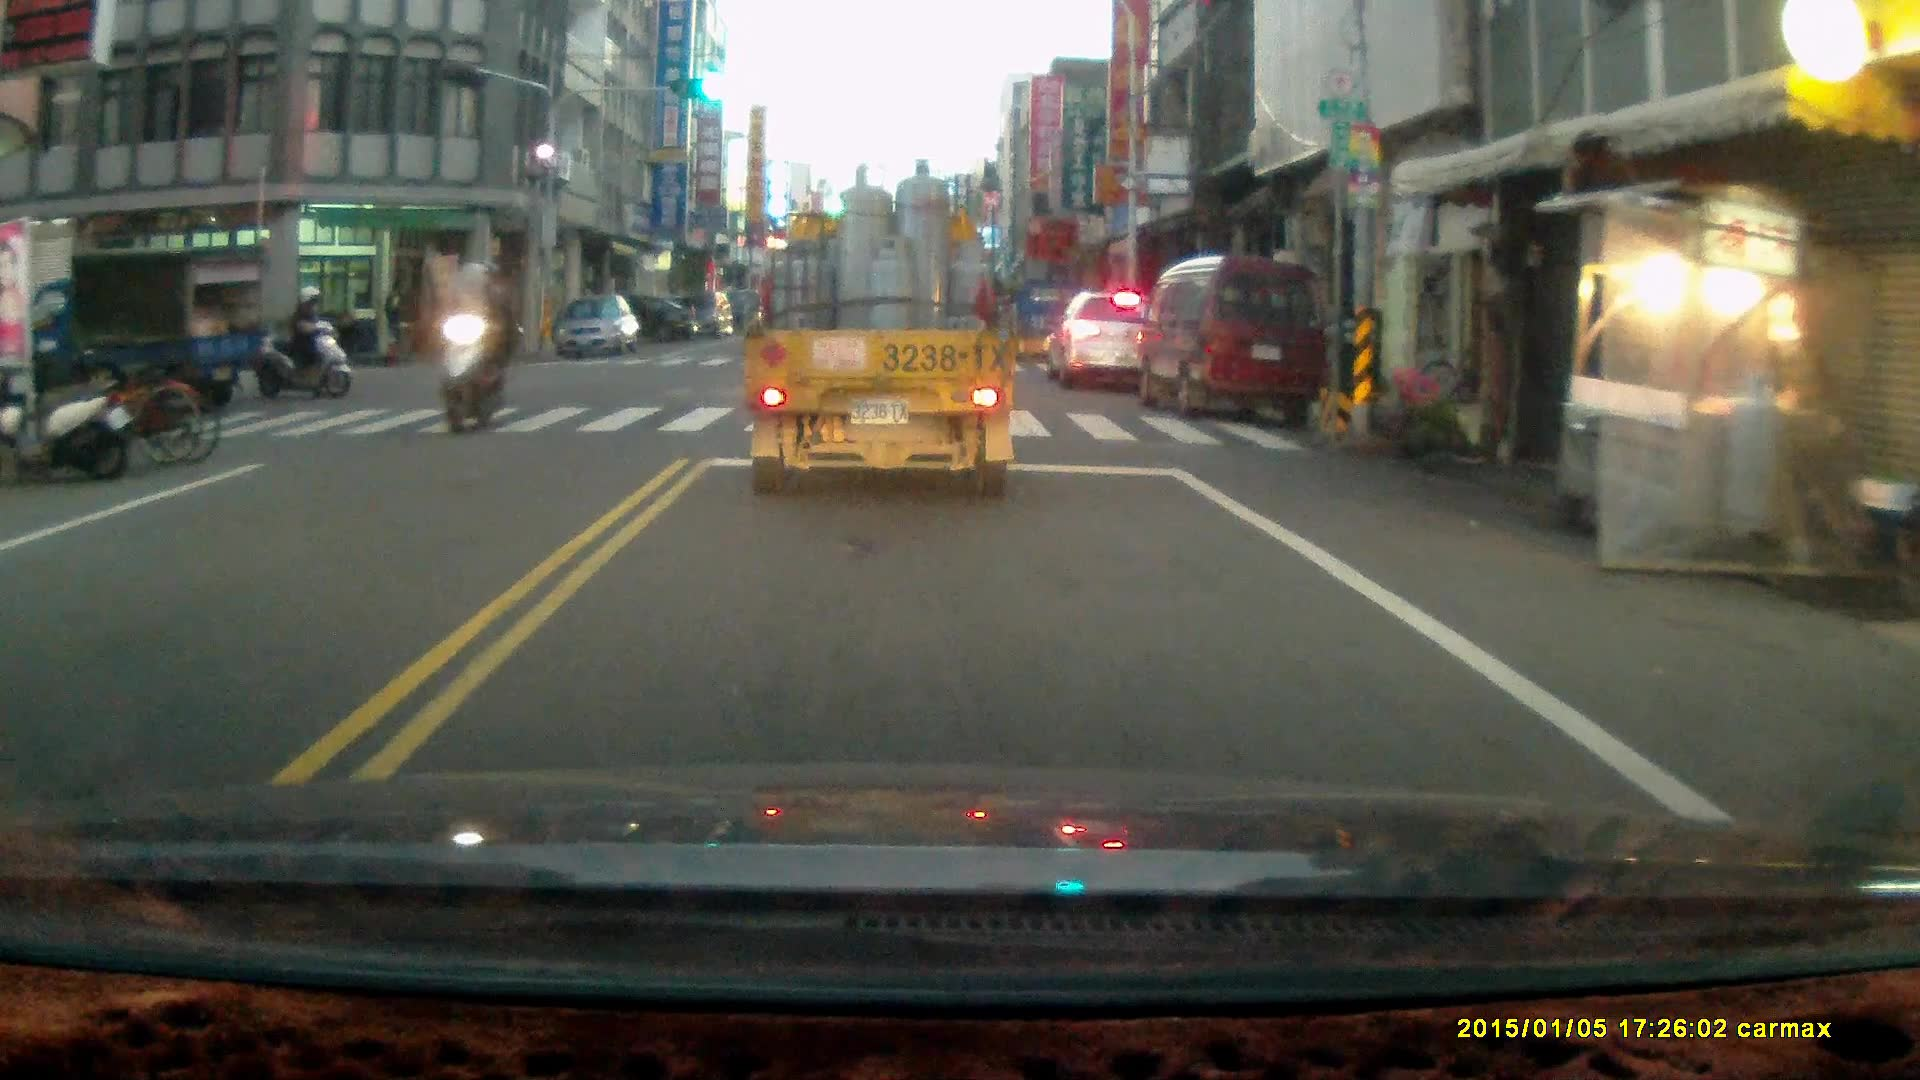pedestrian: (380, 281, 412, 362)
rider: (432, 258, 514, 432), (252, 283, 351, 400)
vehicle: (745, 168, 1020, 507), (25, 247, 260, 420), (1135, 261, 1330, 426), (1043, 290, 1163, 395), (576, 299, 697, 357), (553, 295, 642, 358), (647, 290, 729, 338)
